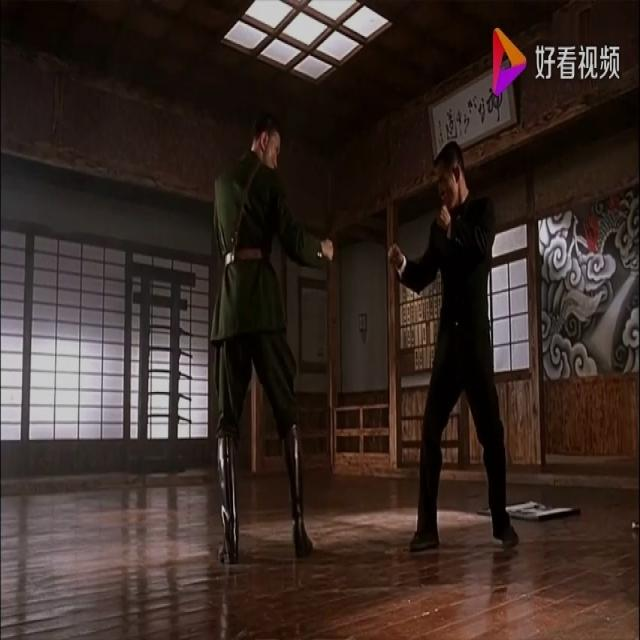fight: (216, 104, 521, 565)
